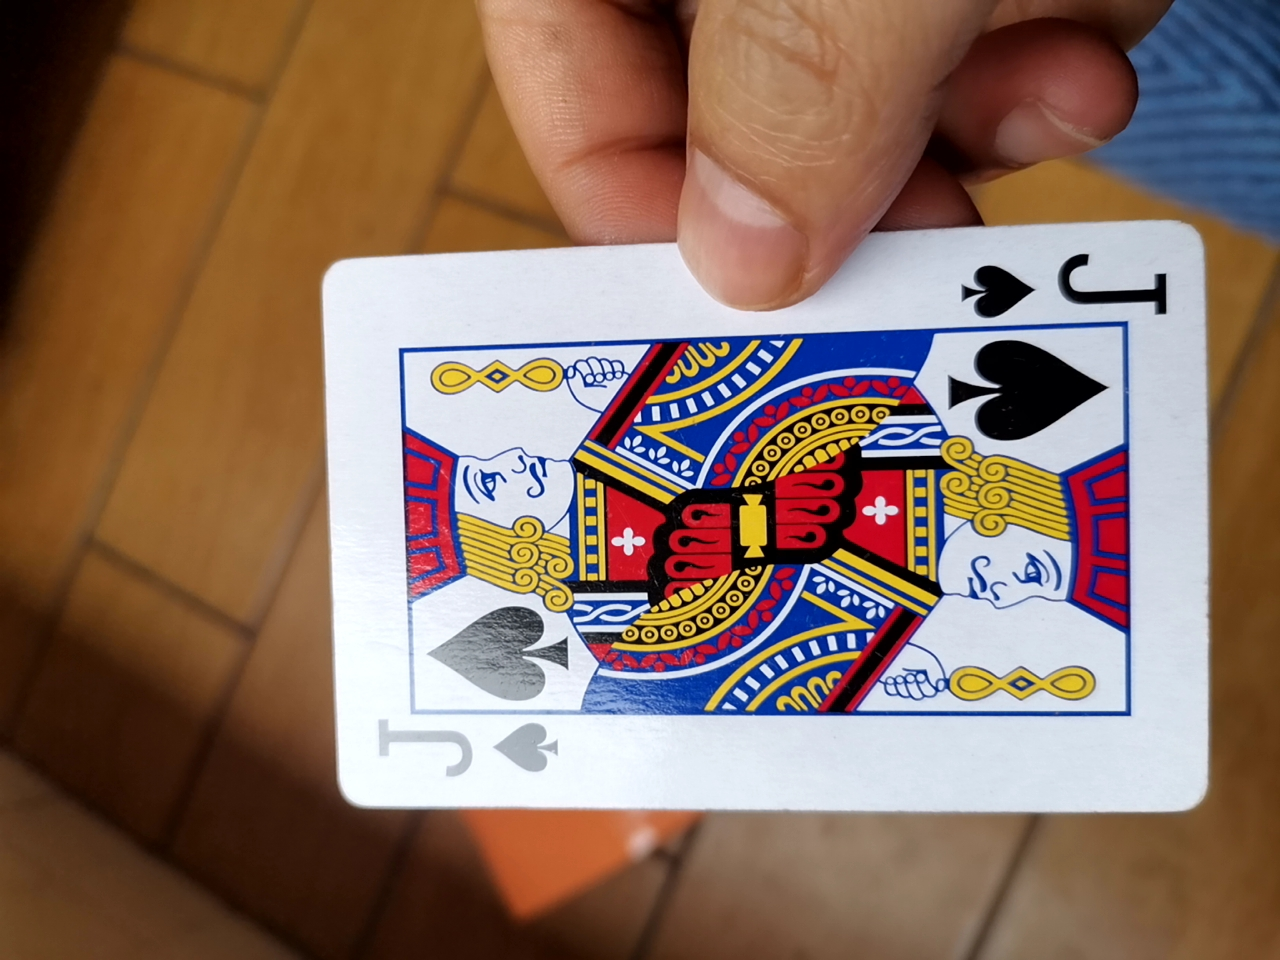ht j: (294, 222, 1199, 811)
